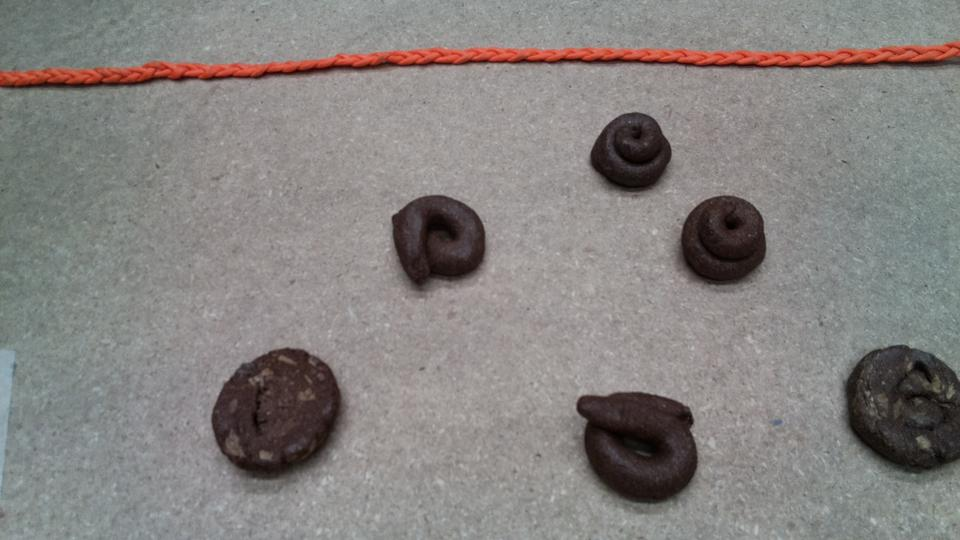poop: (210, 342, 343, 480), (837, 338, 959, 483), (576, 377, 705, 511), (385, 190, 495, 292), (678, 193, 774, 287), (587, 109, 674, 199)
rope: (293, 50, 960, 78), (1, 60, 374, 94)
